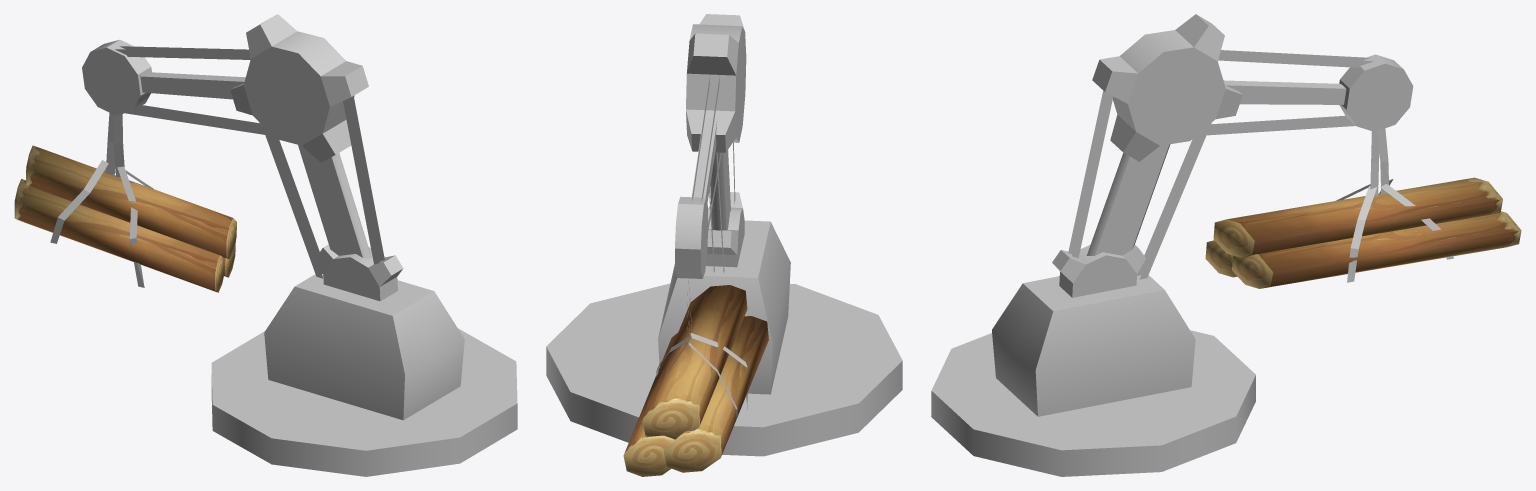
Rendered from rc_01_budA_12.FBX.
3 renders of one model, left to right at view 1: azimuth 30°, elevation 25°; view 2: azimuth 150°, elevation 25°; view 3: azimuth 270°, elevation 25°, orthographic. The views are drawn at different scales.
Parts seen in each view (by area): view 1: Box012, 对象029, 对象030; view 2: Box012, 对象029, 对象030; view 3: Box012, 对象029, 对象030.
Boxes of the visible parts, left/top/right/bottom form: Box012: left=82, top=14, right=517, bottom=476; 对象029: left=14, top=145, right=236, bottom=292; 对象030: left=50, top=112, right=153, bottom=287; Box012: left=546, top=14, right=902, bottom=456; 对象029: left=623, top=285, right=768, bottom=476; 对象030: left=656, top=280, right=747, bottom=440; Box012: left=931, top=14, right=1413, bottom=476; 对象029: left=1205, top=177, right=1521, bottom=288; 对象030: left=1336, top=128, right=1453, bottom=282.
Bounding box in the file's own units: 3407 × 3801 × 5519.
